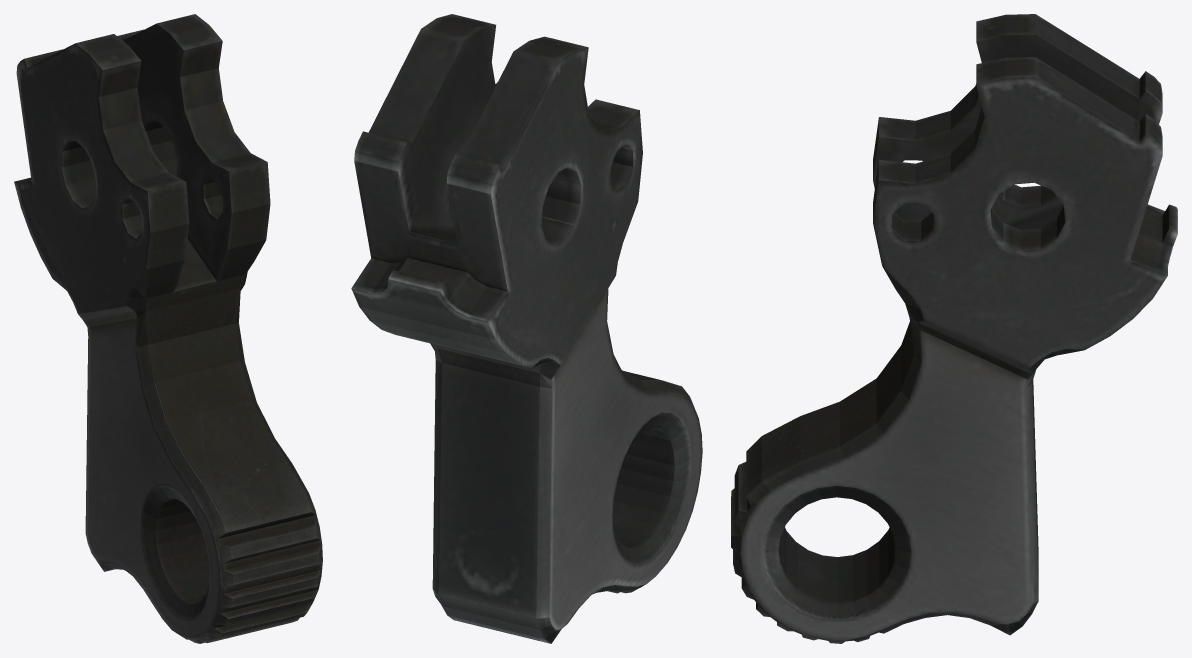
The picture shows the model from 3 angles, left to right: view 1: azimuth 30°, elevation 25°; view 2: azimuth 150°, elevation 25°; view 3: azimuth 270°, elevation 25°; orthographic projection. The views are drawn at different scales.
Visible parts, largest first — view 1: TW_5ef35d2ac64c5d0dfc0571b0_PZ_Import; view 2: TW_5ef35d2ac64c5d0dfc0571b0_PZ_Import; view 3: TW_5ef35d2ac64c5d0dfc0571b0_PZ_Import.
Part boxes in pixels (x1=…): TW_5ef35d2ac64c5d0dfc0571b0_PZ_Import: x1=14, y1=14, x2=322, y2=643; TW_5ef35d2ac64c5d0dfc0571b0_PZ_Import: x1=351, y1=14, x2=702, y2=643; TW_5ef35d2ac64c5d0dfc0571b0_PZ_Import: x1=731, y1=14, x2=1177, y2=643.
Size of the model in its own units: 0.00454 by 0.0135 by 0.0192.
1 material, 1 textured.
